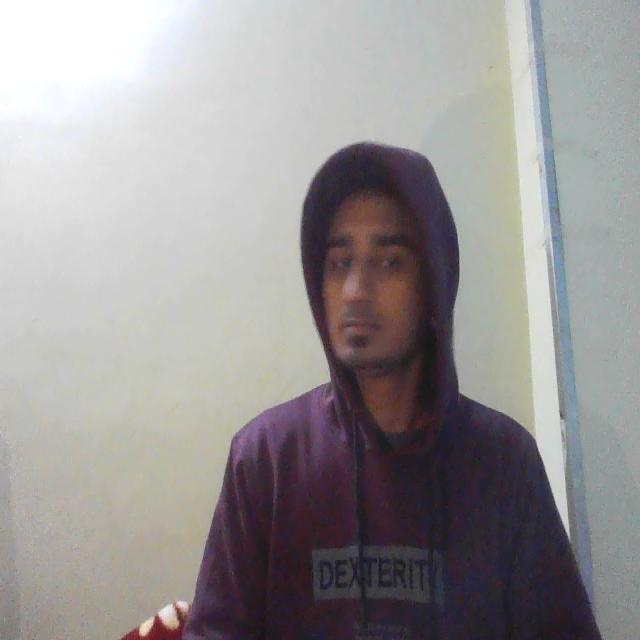real: (313, 152, 439, 389)
